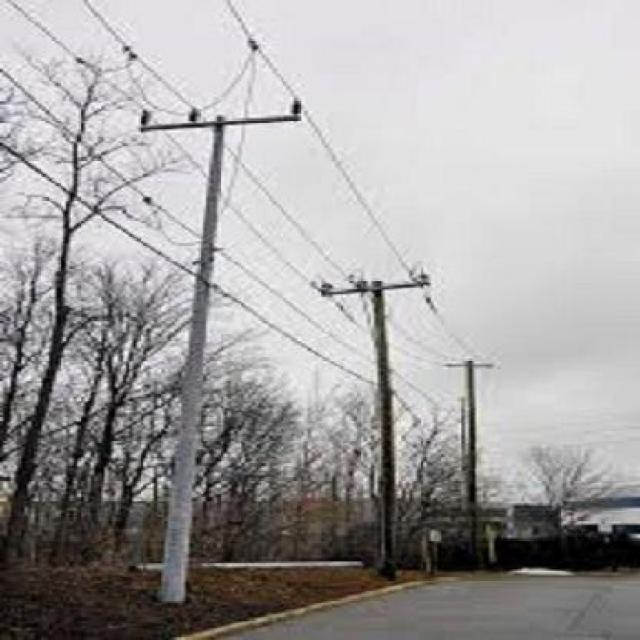pole: (148, 83, 306, 603), (323, 251, 429, 578), (446, 351, 499, 571)
